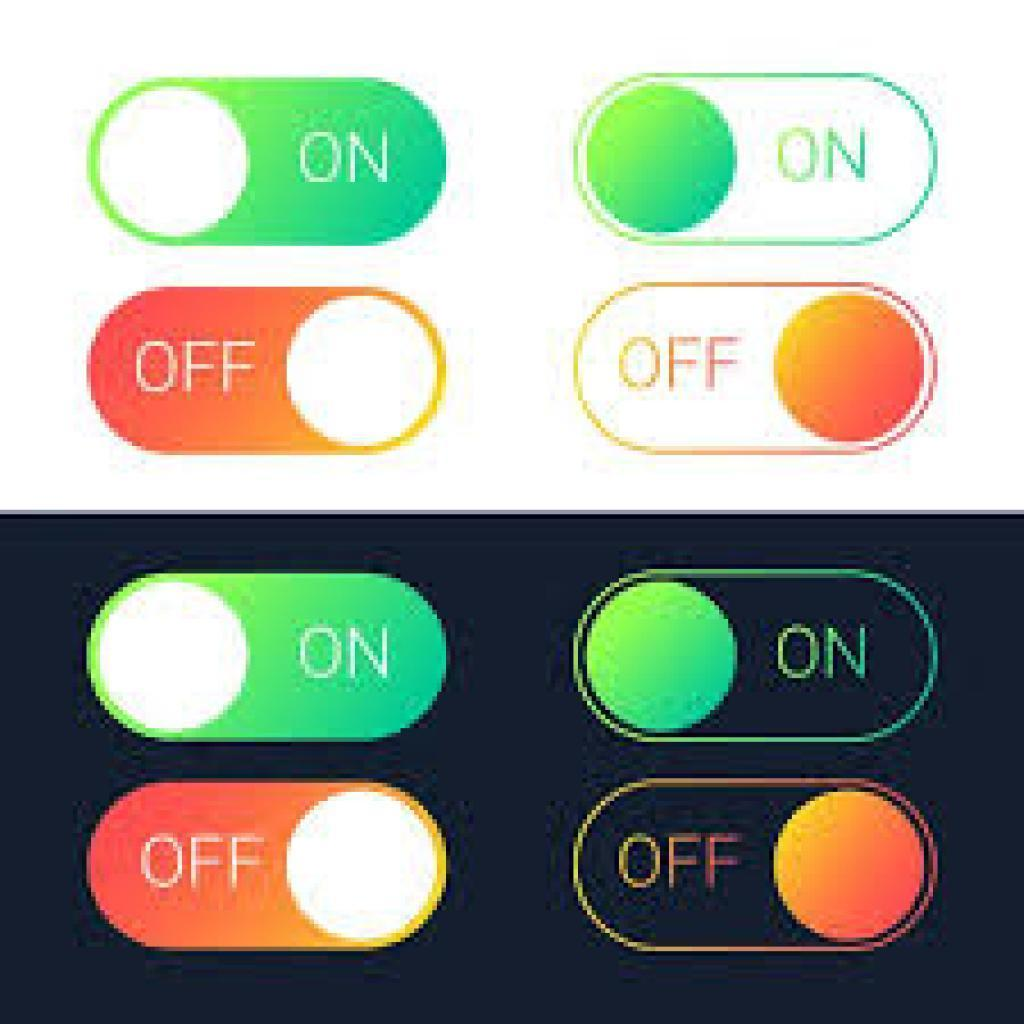switch: (573, 569, 942, 751), (573, 779, 942, 953), (86, 74, 448, 251), (575, 281, 939, 456), (84, 573, 452, 746), (573, 74, 939, 247), (83, 782, 454, 951), (88, 288, 449, 454)
